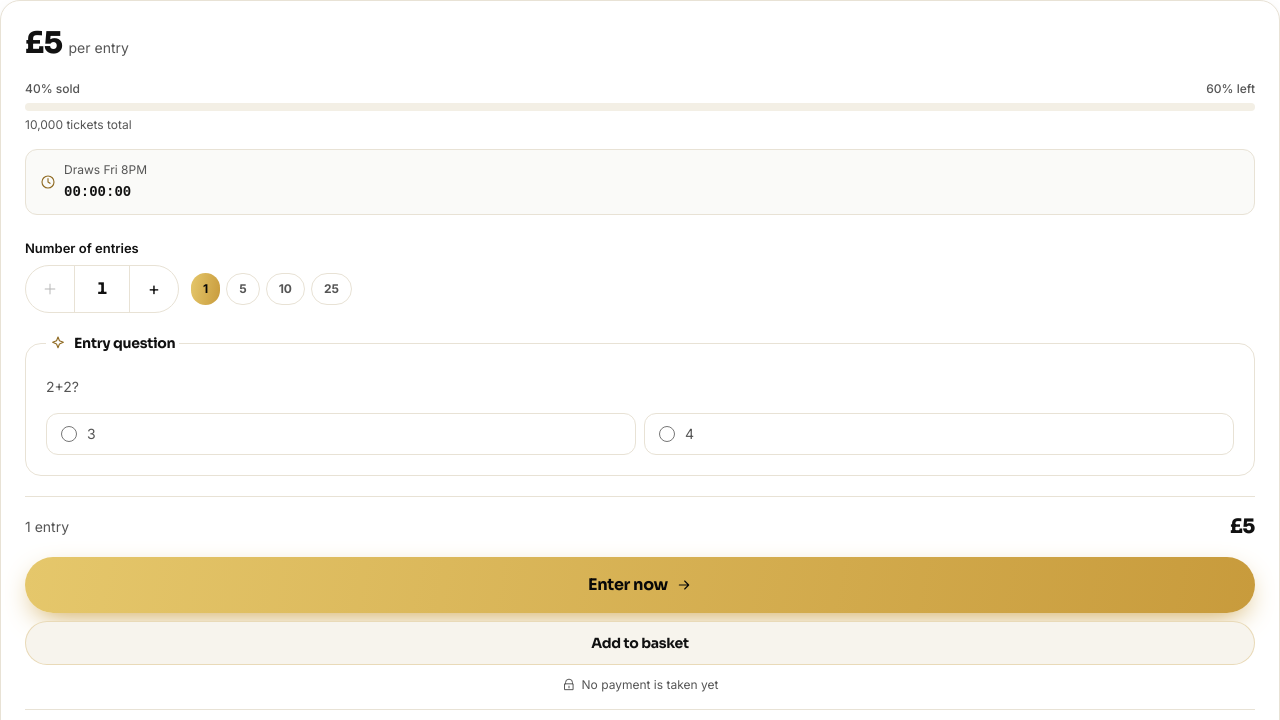
EntrySelector › adds the selected quantity to the real cart for a signed-in user
Step 1. Click the button "Add to basket" → (640, 643), box top-left (25, 621), bottom-right (1255, 665)
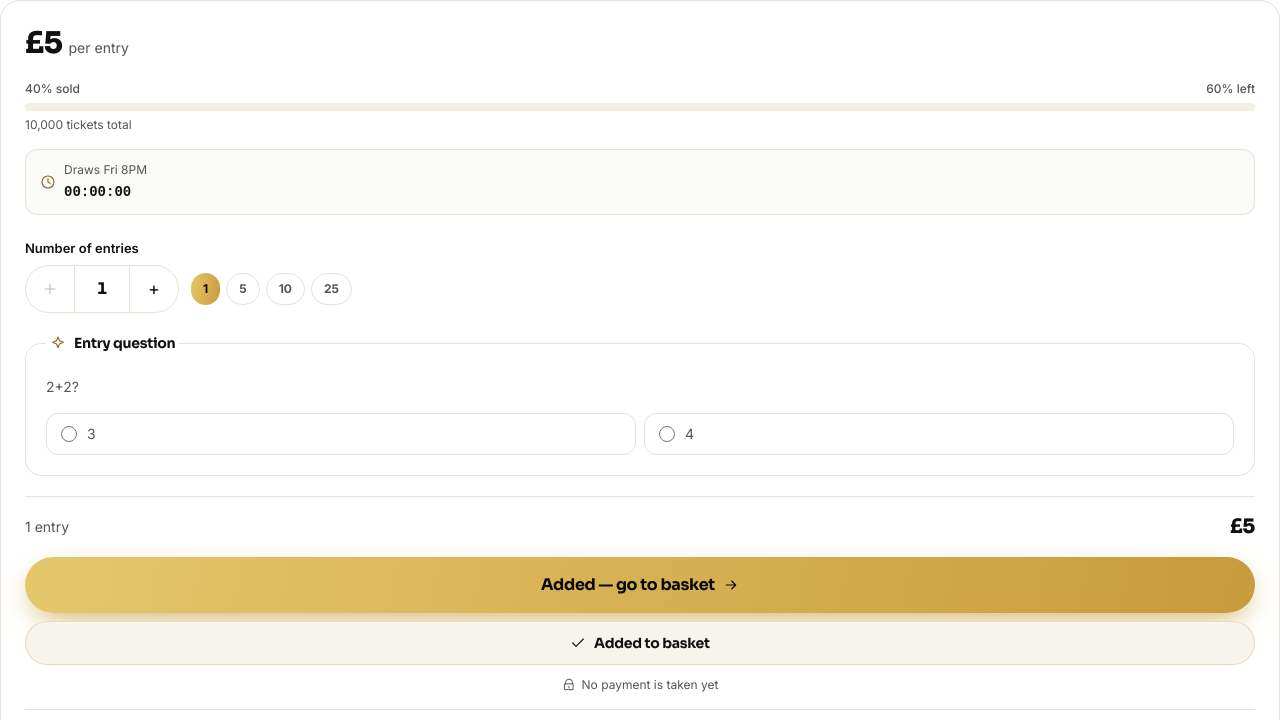
Expected: the button "Added to basket" is shown, top-left (25, 621), bottom-right (1255, 665)
